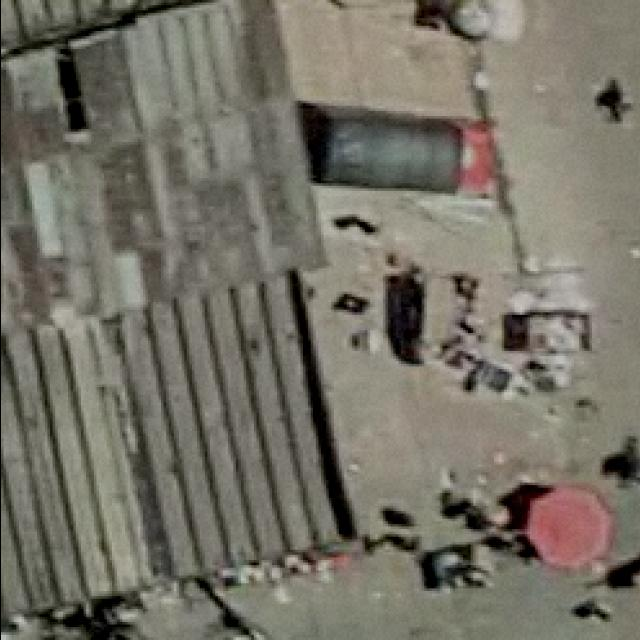vendedor_ambulante: (519, 484, 617, 575)
